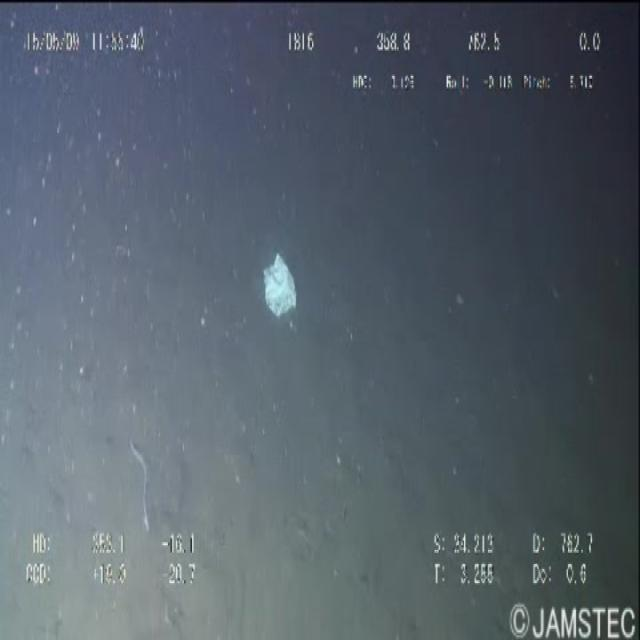Plastic: (258, 258, 303, 325)
